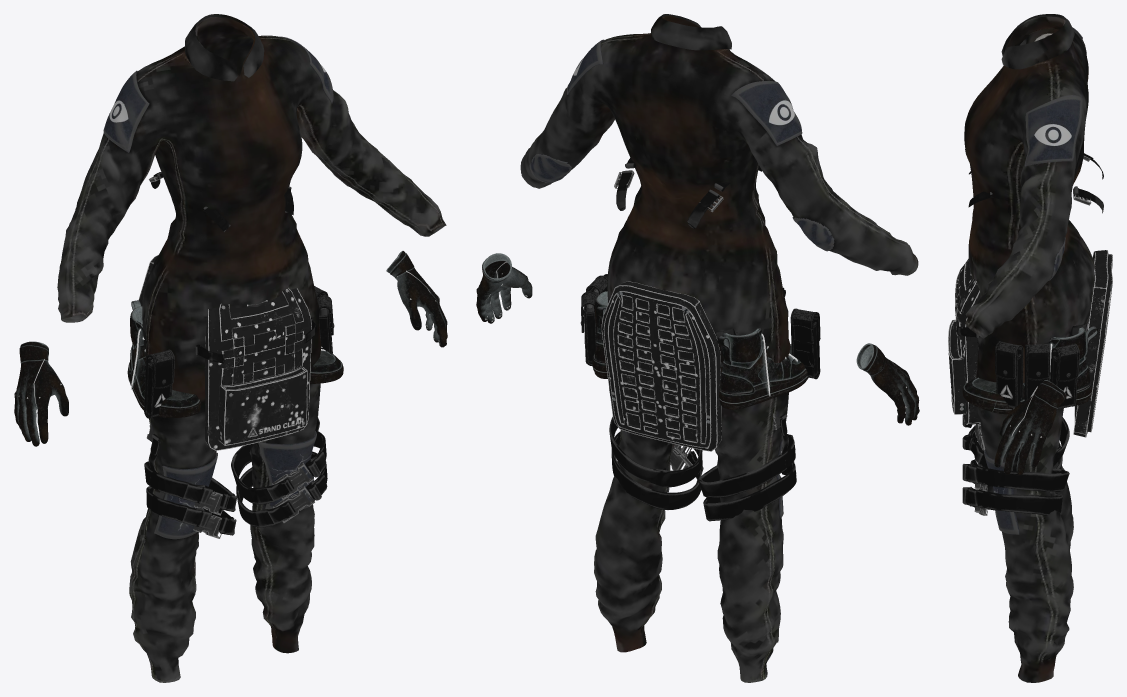
Rendered from modern_soldier.glb.
3 views of the same model, side by side, from view 1: azimuth 30°, elevation 25°; view 2: azimuth 150°, elevation 25°; view 3: azimuth 270°, elevation 25° (orthographic). The views are drawn at different scales.
Visible parts, largest first — view 1: Modern_Soldier_Part12, Modern_Soldier_Part02, Modern_Soldier_Part24, Modern_Soldier_Part01, Modern_Soldier_Part08, Modern_Soldier_Part18, Modern_Soldier_Part06; view 2: Modern_Soldier_Part12, Modern_Soldier_Part02, Modern_Soldier_Part24, Modern_Soldier_Part08, Modern_Soldier_Part01, Modern_Soldier_Part18, Modern_Soldier_Part06; view 3: Modern_Soldier_Part12, Modern_Soldier_Part02, Modern_Soldier_Part24, Modern_Soldier_Part18, Modern_Soldier_Part01, Modern_Soldier_Part08, Modern_Soldier_Part06.
Part boxes in pixels (box(x1,y1,x2,y2)): Modern_Soldier_Part12: box(57, 14, 446, 682); Modern_Soldier_Part02: box(138, 254, 311, 450); Modern_Soldier_Part24: box(144, 172, 327, 535); Modern_Soldier_Part01: box(14, 251, 447, 446); Modern_Soldier_Part08: box(127, 300, 343, 417); Modern_Soldier_Part18: box(144, 286, 334, 418); Modern_Soldier_Part06: box(146, 176, 314, 538); Modern_Soldier_Part12: box(520, 14, 918, 682); Modern_Soldier_Part02: box(601, 281, 721, 451); Modern_Soldier_Part24: box(609, 158, 796, 521); Modern_Soldier_Part08: box(592, 291, 808, 409); Modern_Soldier_Part01: box(476, 253, 919, 425); Modern_Soldier_Part18: box(580, 274, 820, 379); Modern_Soldier_Part06: box(614, 171, 781, 478); Modern_Soldier_Part12: box(964, 14, 1094, 682); Modern_Soldier_Part02: box(948, 250, 1112, 437); Modern_Soldier_Part24: box(957, 153, 1103, 515); Modern_Soldier_Part18: box(995, 341, 1079, 409); Modern_Soldier_Part01: box(994, 380, 1066, 474); Modern_Soldier_Part08: box(962, 326, 1098, 414); Modern_Soldier_Part06: box(974, 153, 1091, 515).
Bounding box in the file's own units: 33430 × 48081 × 11410.
Materials: 19 (16 with a texture image).
